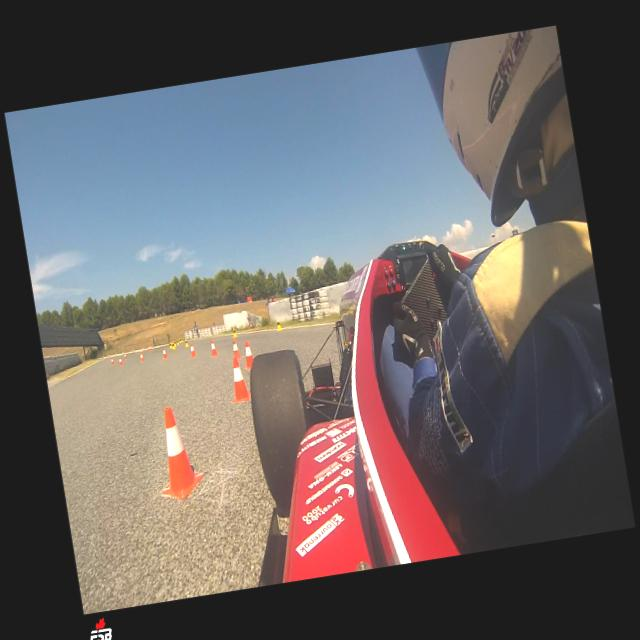orange_cone: (148, 403, 206, 501), (226, 356, 252, 404), (241, 340, 255, 370), (230, 340, 242, 360), (209, 339, 219, 358), (190, 342, 197, 358), (162, 348, 168, 360), (140, 352, 144, 362), (119, 357, 122, 366)
yellow_cone: (275, 318, 283, 332), (231, 327, 238, 338), (184, 338, 189, 348), (171, 341, 176, 350)
